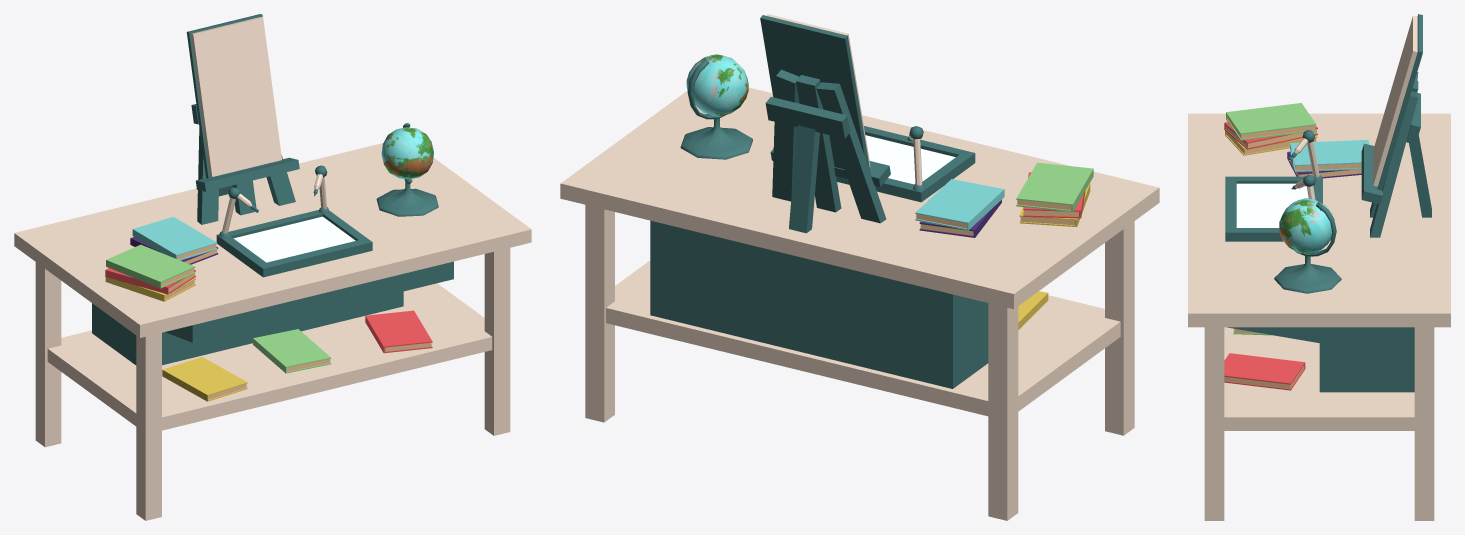
File: UpgradeTable.fbx
The picture shows the model from 3 angles, left to right: view 1: azimuth 30°, elevation 25°; view 2: azimuth 150°, elevation 25°; view 3: azimuth 270°, elevation 25°; orthographic projection. The views are drawn at different scales.
Visible parts, largest first — view 1: SkillTreeTable_LOD0; view 2: SkillTreeTable_LOD0; view 3: SkillTreeTable_LOD0.
Boxes of the visible parts, x1,y1,x2,y2 form: SkillTreeTable_LOD0: (14, 14, 531, 520); SkillTreeTable_LOD0: (560, 14, 1159, 520); SkillTreeTable_LOD0: (1188, 14, 1450, 520).
Size of what is drawn, in the model's own units: 1.8 by 1.66 by 1.
